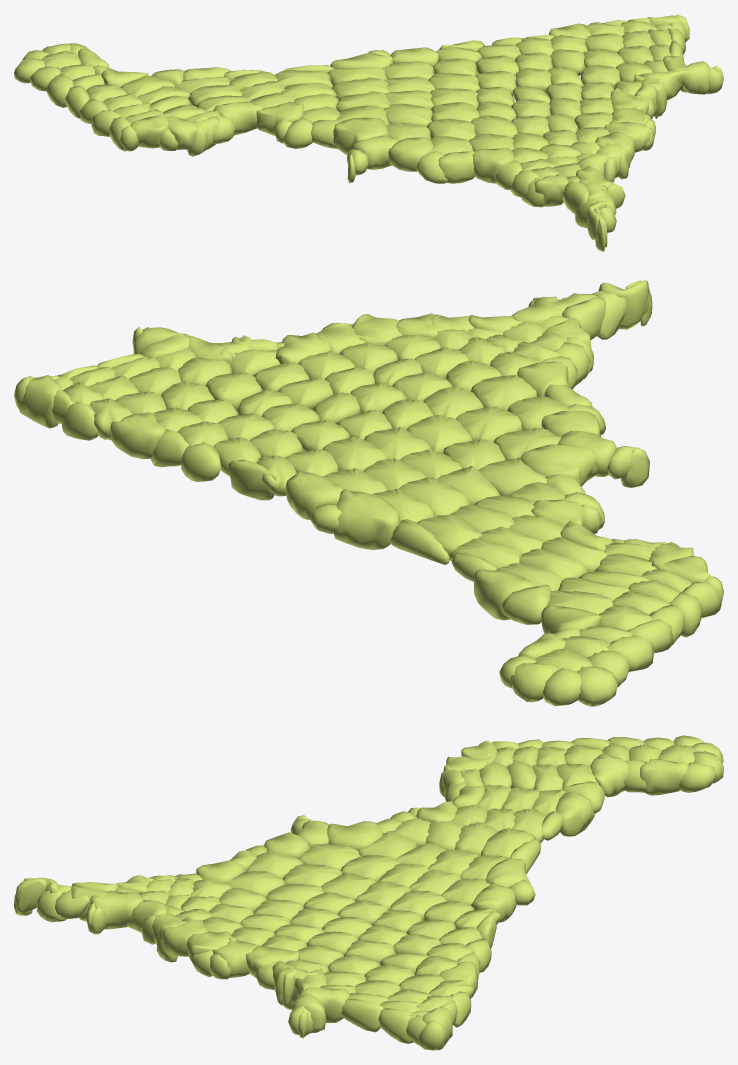
The model's file is Islands5.006_fog.fbx.
3 renders of one model, top to bottom at view 1: azimuth 30°, elevation 25°; view 2: azimuth 150°, elevation 25°; view 3: azimuth 270°, elevation 25°, orthographic. The views are drawn at different scales.
Parts seen in each view (by area): view 1: Island5.006_fog_cell.112, Island5.006_fog_cell.076, Island5.006_fog_cell.020, Island5.006_fog_cell.169, Island5.006_fog_cell.030, Island5.006_fog_cell.068, Island5.006_fog_cell.024, Island5.006_fog_cell.163, Island5.006_fog_cell.055, Island5.006_fog_cell.105, Island5.006_fog_cell.170, Island5.006_fog_cell.053 (+96 smaller); view 2: Island5.006_fog_cell.099, Island5.006_fog_cell.112, Island5.006_fog_cell.100, Island5.006_fog_cell.043, Island5.006_fog_cell.032, Island5.006_fog_cell.105, Island5.006_fog_cell.170, Island5.006_fog_cell.009, Island5.006_fog_cell.012, Island5.006_fog_cell.139, Island5.006_fog_cell.069, Island5.006_fog_cell.145 (+102 smaller); view 3: Island5.006_fog_cell.159, Island5.006_fog_cell.032, Island5.006_fog_cell.138, Island5.006_fog_cell.112, Island5.006_fog_cell.166, Island5.006_fog_cell.113, Island5.006_fog_cell.043, Island5.006_fog_cell.140, Island5.006_fog_cell.137, Island5.006_fog_cell.042, Island5.006_fog_cell.055, Island5.006_fog_cell.069 (+86 smaller).
Part boxes in pixels (x1=…): Island5.006_fog_cell.112: x1=333, y1=117, x2=388, y2=154; Island5.006_fog_cell.076: x1=388, y1=137, x2=433, y2=171; Island5.006_fog_cell.020: x1=472, y1=147, x2=514, y2=183; Island5.006_fog_cell.169: x1=213, y1=102, x2=262, y2=135; Island5.006_fog_cell.030: x1=438, y1=151, x2=474, y2=183; Island5.006_fog_cell.068: x1=256, y1=101, x2=304, y2=136; Island5.006_fog_cell.024: x1=352, y1=135, x2=399, y2=169; Island5.006_fog_cell.163: x1=130, y1=114, x2=171, y2=148; Island5.006_fog_cell.055: x1=384, y1=103, x2=432, y2=126; Island5.006_fog_cell.105: x1=427, y1=118, x2=476, y2=140; Island5.006_fog_cell.170: x1=331, y1=77, x2=389, y2=100; Island5.006_fog_cell.053: x1=534, y1=173, x2=568, y2=206; Island5.006_fog_cell.099: x1=333, y1=489, x2=399, y2=549; Island5.006_fog_cell.112: x1=520, y1=444, x2=598, y2=486; Island5.006_fog_cell.100: x1=110, y1=412, x2=165, y2=458; Island5.006_fog_cell.043: x1=285, y1=470, x2=342, y2=519; Island5.006_fog_cell.032: x1=474, y1=569, x2=535, y2=620; Island5.006_fog_cell.105: x1=455, y1=406, x2=522, y2=442; Island5.006_fog_cell.170: x1=399, y1=477, x2=470, y2=516; Island5.006_fog_cell.009: x1=470, y1=375, x2=537, y2=410; Island5.006_fog_cell.012: x1=390, y1=519, x2=449, y2=565; Island5.006_fog_cell.139: x1=18, y1=375, x2=62, y2=428; Island5.006_fog_cell.069: x1=478, y1=457, x2=547, y2=495; Island5.006_fog_cell.145: x1=406, y1=415, x2=472, y2=453; Island5.006_fog_cell.159: x1=640, y1=759, x2=688, y2=795; Island5.006_fog_cell.032: x1=555, y1=792, x2=594, y2=836; Island5.006_fog_cell.138: x1=90, y1=891, x2=143, y2=929; Island5.006_fog_cell.112: x1=327, y1=821, x2=382, y2=851; Island5.006_fog_cell.166: x1=590, y1=753, x2=629, y2=797; Island5.006_fog_cell.113: x1=299, y1=843, x2=360, y2=870; Island5.006_fog_cell.043: x1=471, y1=883, x2=516, y2=922; Island5.006_fog_cell.140: x1=162, y1=917, x2=208, y2=956; Island5.006_fog_cell.137: x1=341, y1=998, x2=384, y2=1032; Island5.006_fog_cell.042: x1=481, y1=827, x2=535, y2=857; Island5.006_fog_cell.055: x1=341, y1=855, x2=399, y2=881; Island5.006_fog_cell.069: x1=358, y1=831, x2=417, y2=858.
Size of the model in its own units: 173 by 11.02 by 176.
